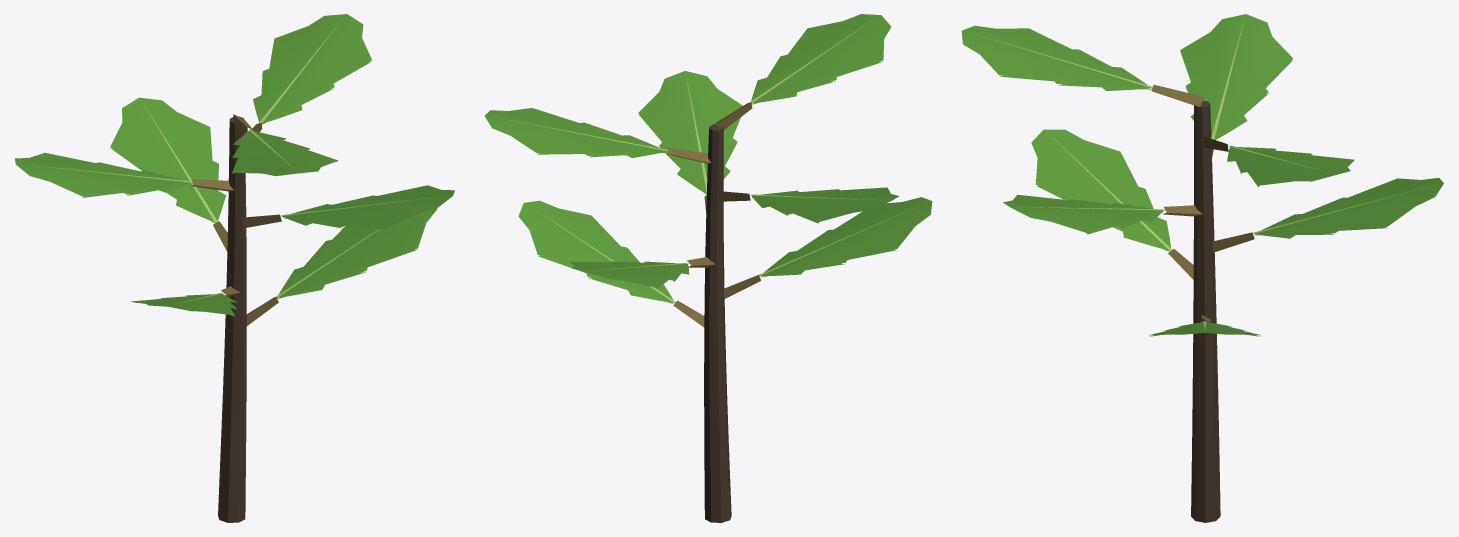
The picture shows the model from 3 angles, left to right: view 1: azimuth 30°, elevation 25°; view 2: azimuth 150°, elevation 25°; view 3: azimuth 270°, elevation 25°; orthographic projection. The views are drawn at different scales.
Parts seen in each view (by area): view 1: body; view 2: body; view 3: body.
Boxes of the visible parts, x1,y1,x2,y2 form: body: (15, 14, 454, 522); body: (484, 14, 932, 522); body: (961, 14, 1443, 522).
Bounding box in the file's own units: 0.5166 × 0.55 × 0.5227.
1 material, 1 textured.
